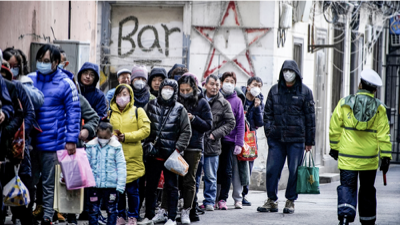with_mask: (36, 53, 55, 73), (115, 90, 130, 108), (159, 85, 176, 100), (7, 59, 20, 78), (248, 81, 262, 96), (97, 133, 111, 147), (133, 75, 147, 89), (282, 68, 296, 82), (222, 78, 235, 93), (180, 86, 193, 98)
without_mask: (81, 68, 96, 85), (151, 76, 165, 91), (207, 80, 219, 96), (120, 74, 131, 85)
